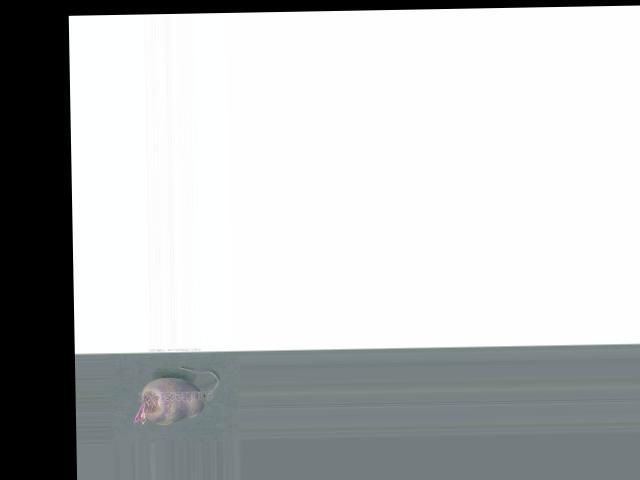beet: (129, 366, 219, 425)
